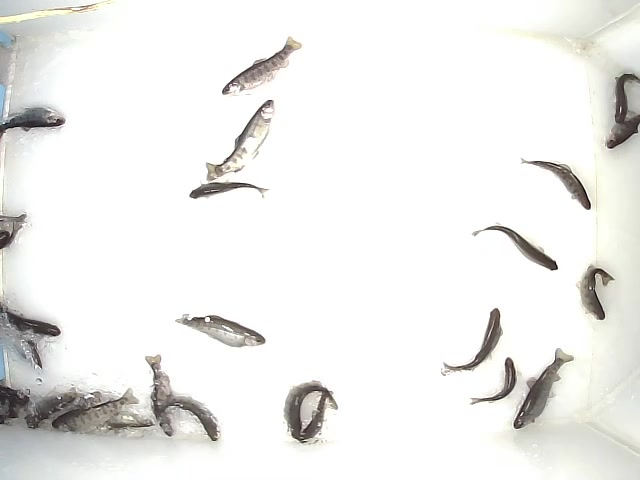fish: (202, 97, 276, 185), (513, 347, 580, 430), (218, 35, 303, 98), (438, 304, 503, 379), (518, 155, 594, 213), (468, 225, 560, 271), (51, 387, 136, 434), (282, 379, 337, 445), (173, 310, 266, 349), (151, 393, 221, 443), (23, 385, 94, 430), (144, 353, 176, 438), (574, 261, 616, 321), (469, 355, 516, 407), (299, 385, 339, 443), (188, 179, 269, 202), (82, 410, 154, 429)
